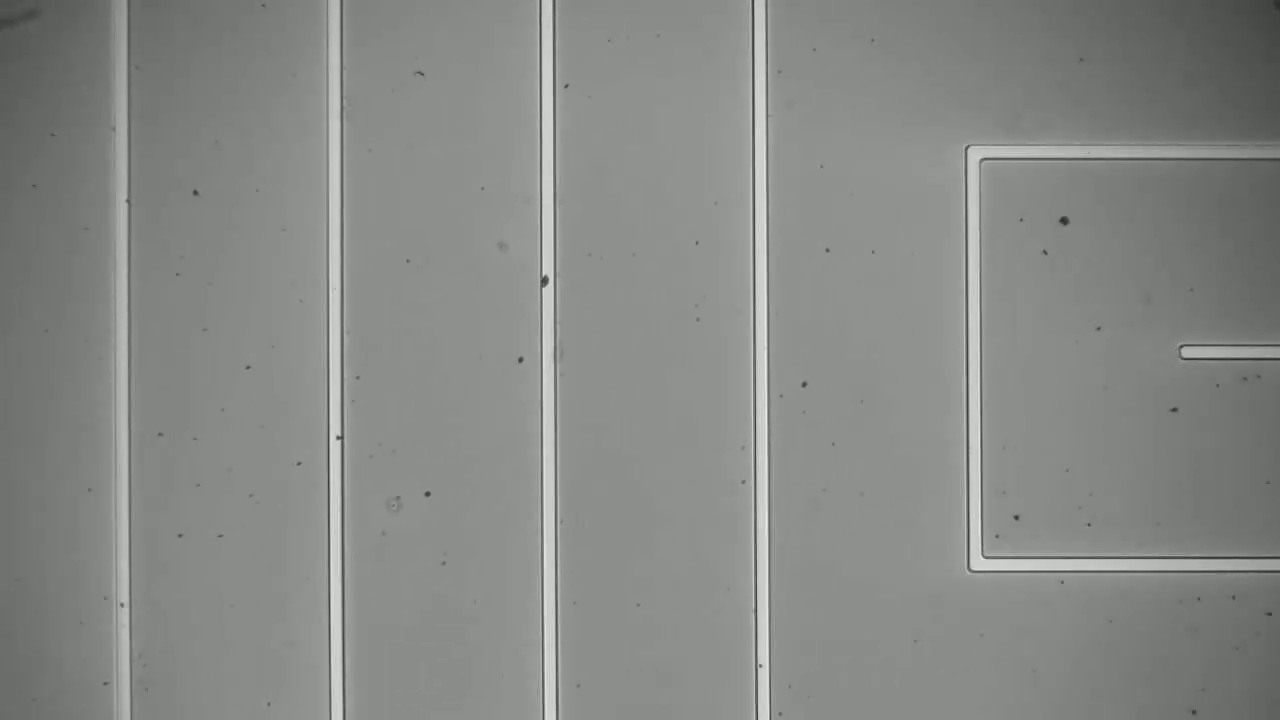stains_enbedded: (532, 269, 563, 294)
